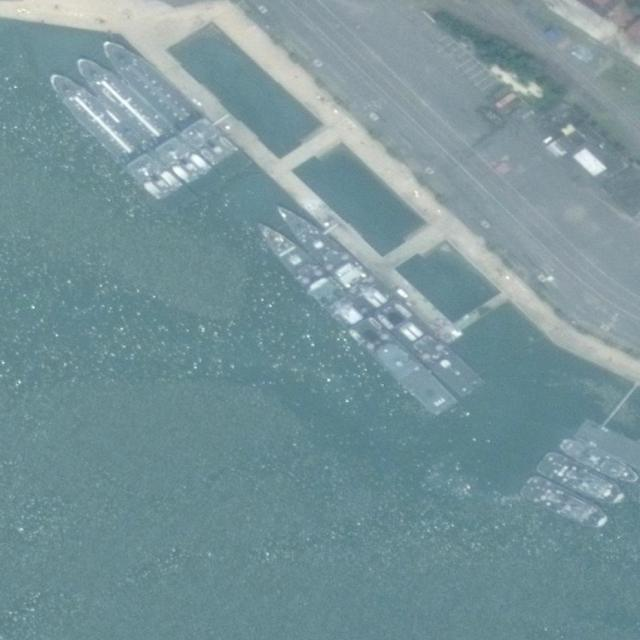Frigate: (245, 215, 462, 424), (268, 195, 484, 403)
Landing: (43, 63, 200, 221), (96, 30, 252, 189), (70, 47, 224, 206)
Other Warship: (515, 469, 609, 540), (535, 447, 627, 517), (557, 431, 639, 491)
